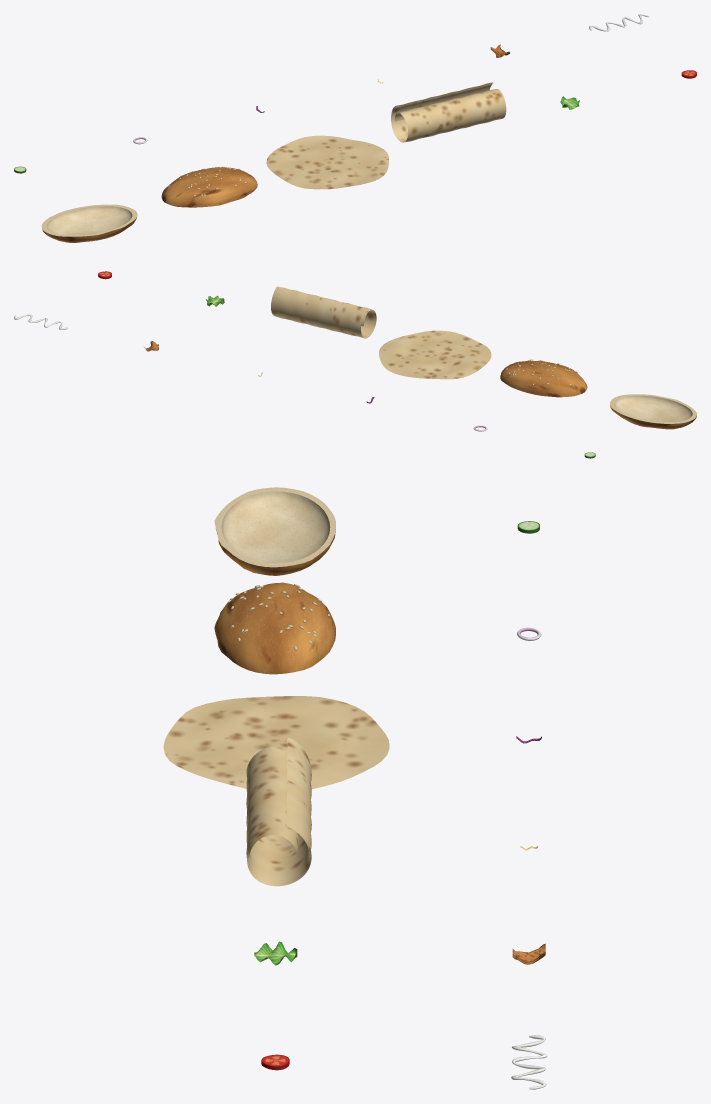
Rendered from kebap_food.fbx.
3 views of the same model, one above another, from view 1: azimuth 30°, elevation 25°; view 2: azimuth 150°, elevation 25°; view 3: azimuth 270°, elevation 25° (orthographic). The views are drawn at different scales.
Parts seen in each view (by area): view 1: DuerumFlat, DuerumRolled, BreadTop, BreadBottom; view 2: DuerumFlat, DuerumRolled, BreadTop, BreadBottom; view 3: DuerumFlat, BreadTop, DuerumRolled, BreadBottom.
Part boxes in pixels (x1,y1,x2,y2): DuerumFlat: (266, 135, 388, 189); DuerumRolled: (391, 82, 506, 142); BreadTop: (161, 166, 257, 207); BreadBottom: (41, 204, 137, 242); DuerumFlat: (379, 330, 491, 379); DuerumRolled: (271, 286, 376, 338); BreadTop: (500, 359, 587, 397); BreadBottom: (610, 394, 696, 429); DuerumFlat: (163, 696, 389, 789); BreadTop: (214, 582, 335, 674); DuerumRolled: (246, 737, 311, 886); BreadBottom: (214, 487, 335, 575).
Size of the model in its own units: 1461 by 107 by 394.
Materials: 10 (10 with a texture image).
